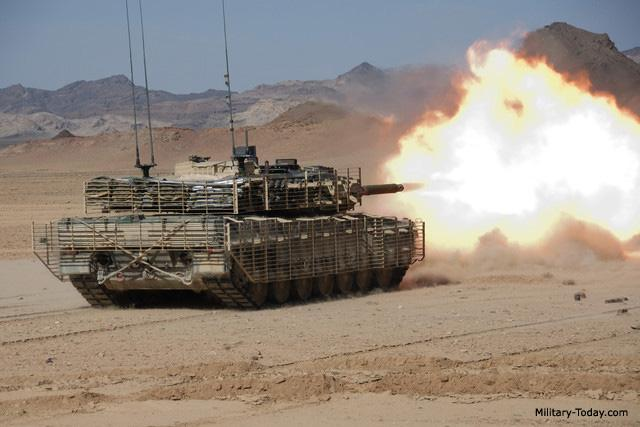tank: (28, 144, 428, 315)
